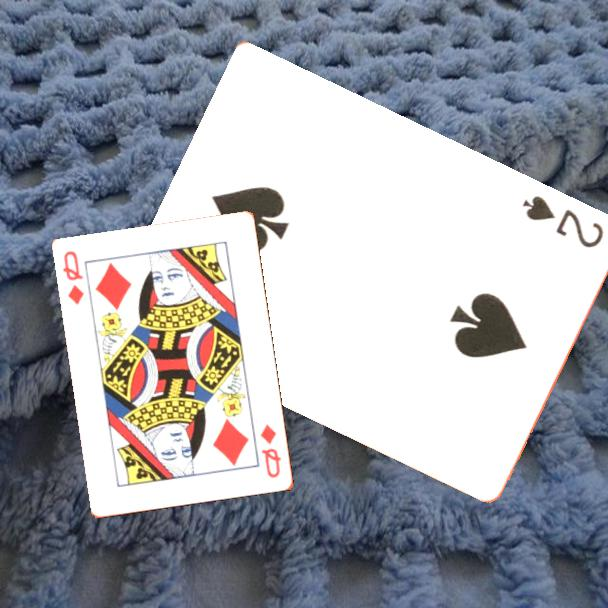d12: (60, 248, 88, 308), (257, 421, 284, 481)
s02: (519, 191, 607, 251)
